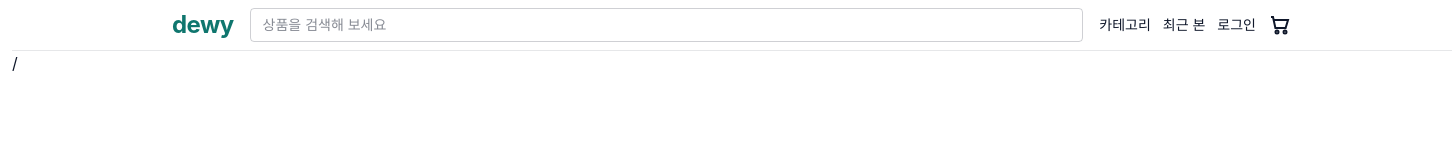
Test: 검색하면 trim한 키워드로 목록에 간다
Type "  토너 " into the search field named "상품 검색" at (666, 25), box [250,8,1083,42]
Then press Enter
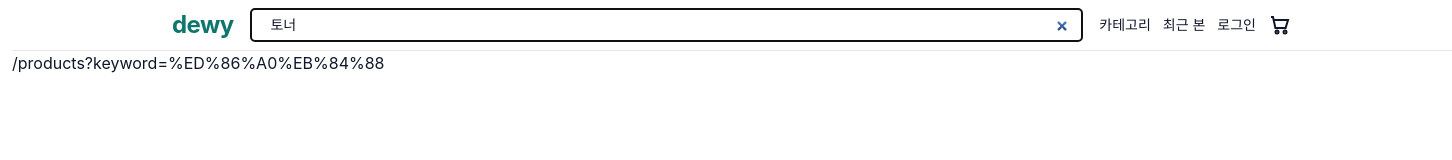
Check: the text with test id "loc" reads "/products?keyword=%ED%86%A0%EB%84%88", box [12,53,384,73]
